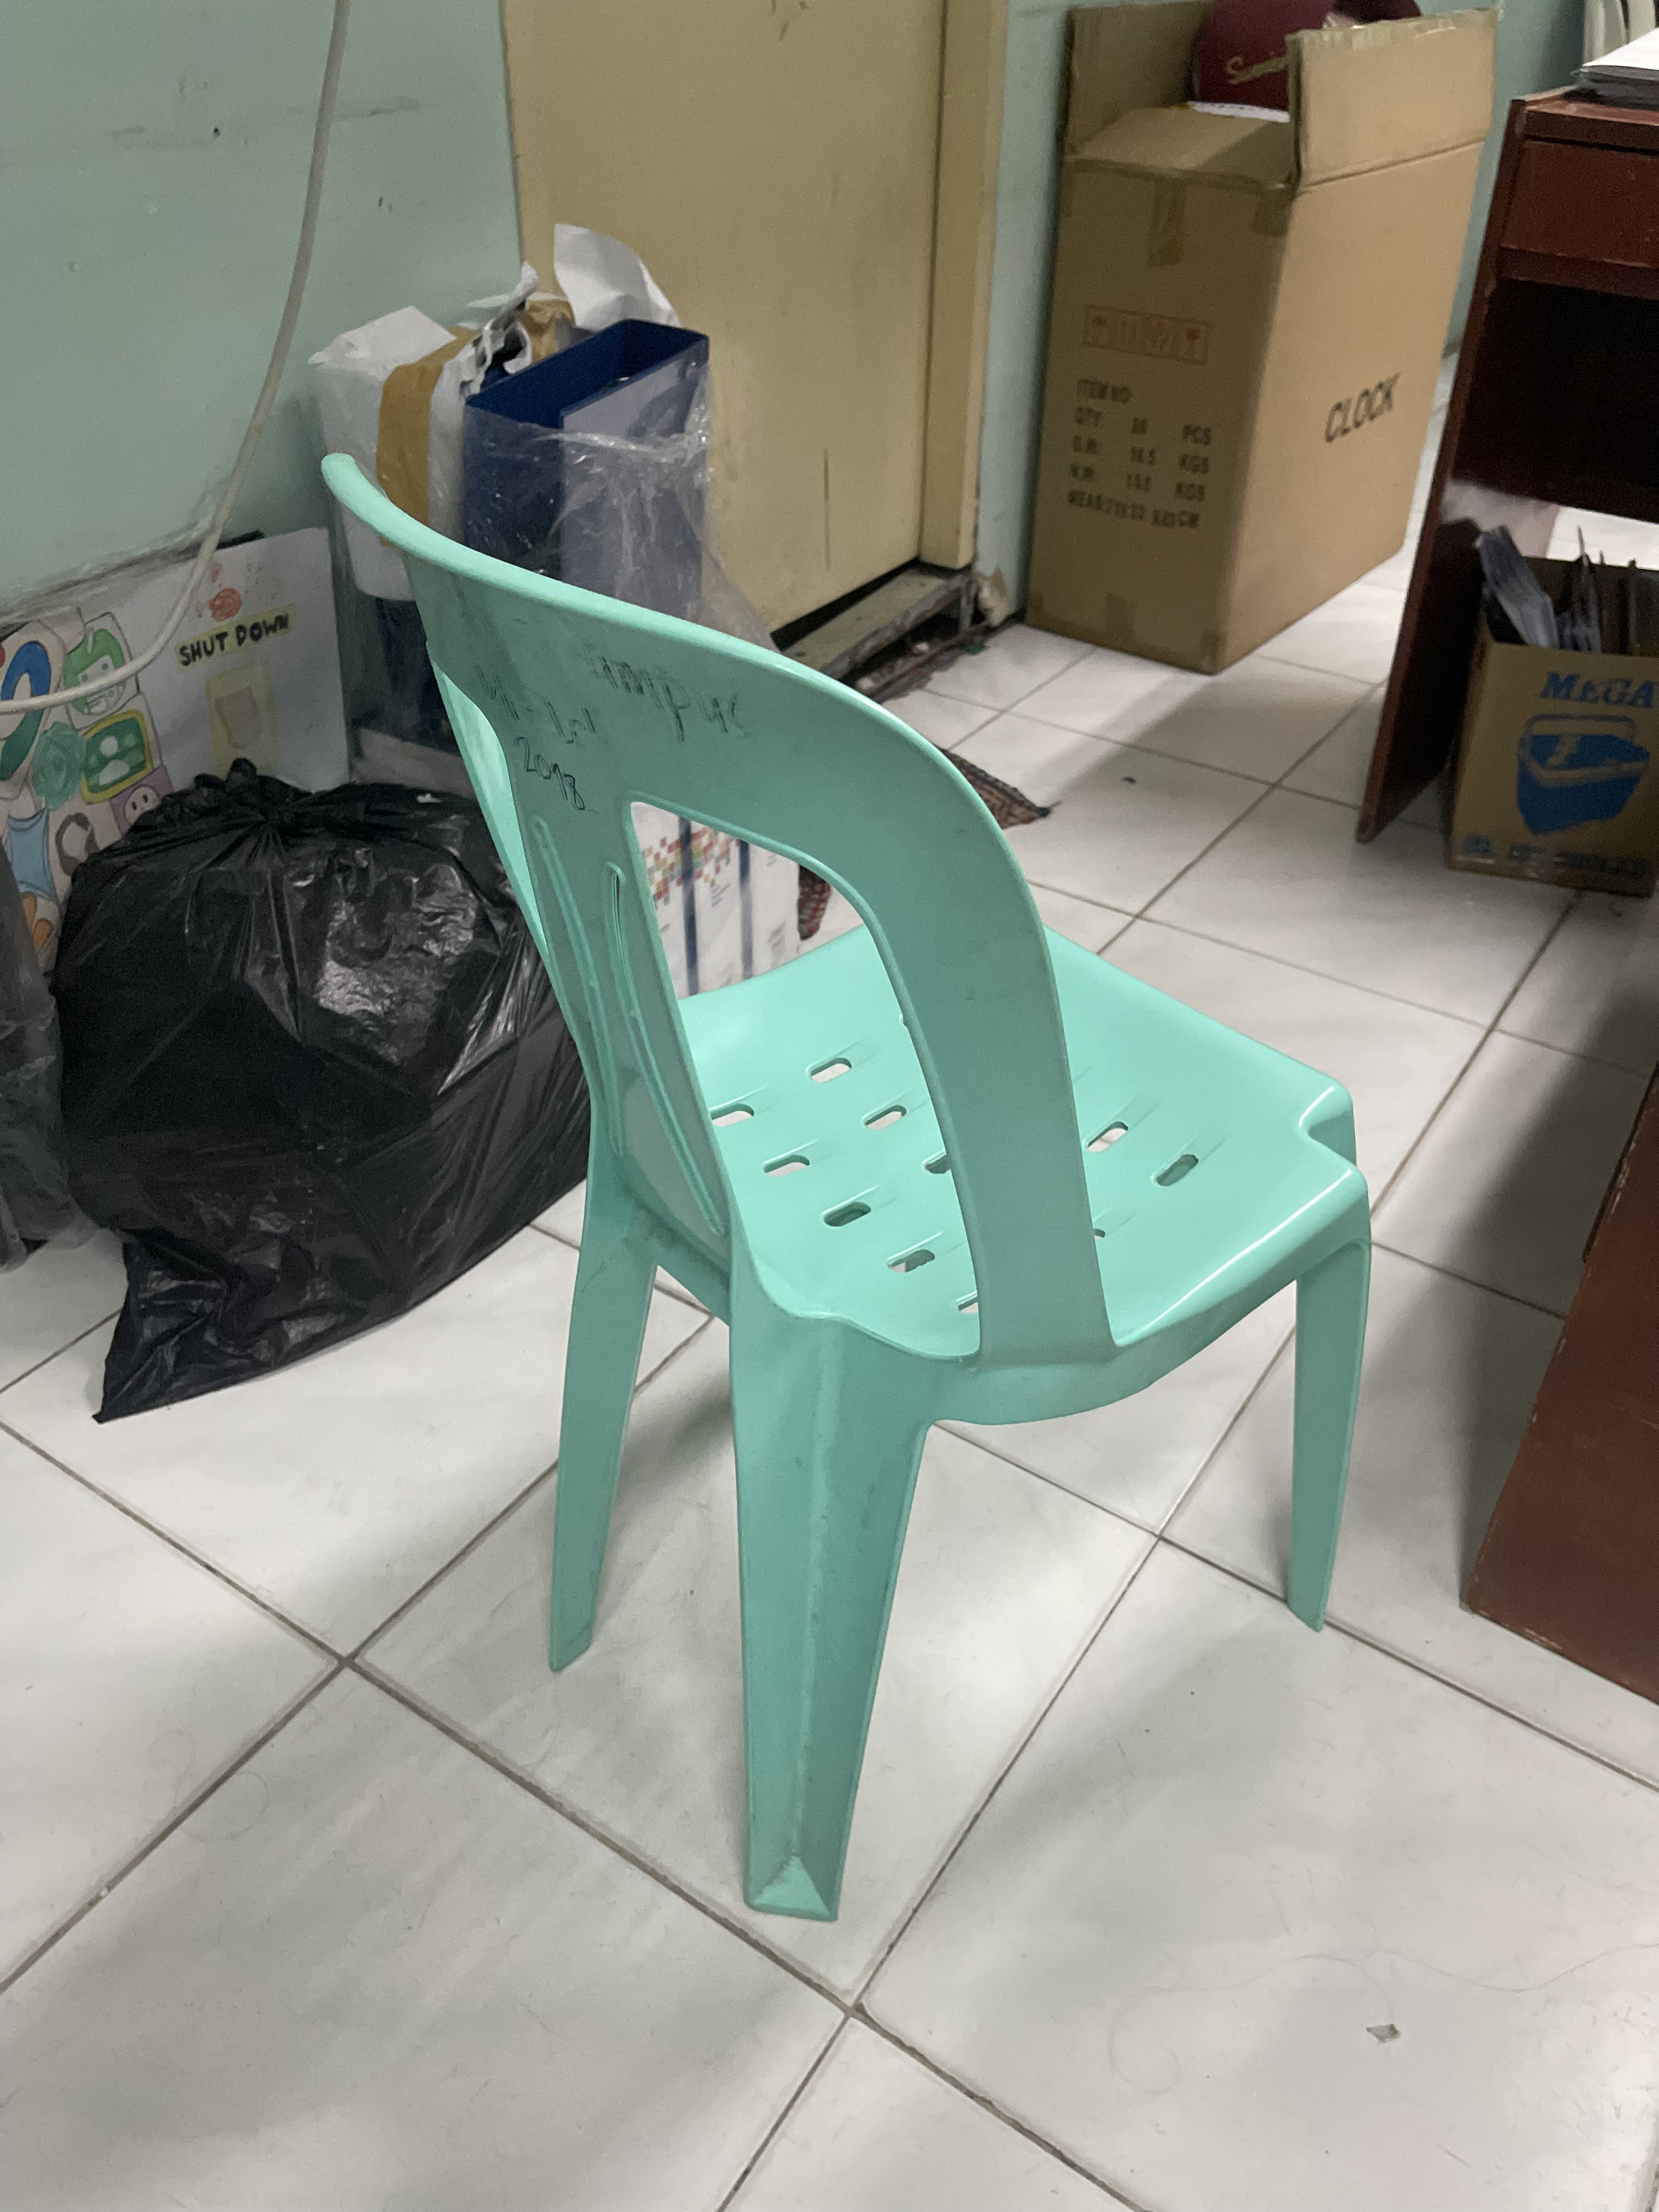chair2: (308, 434, 1389, 1932)
